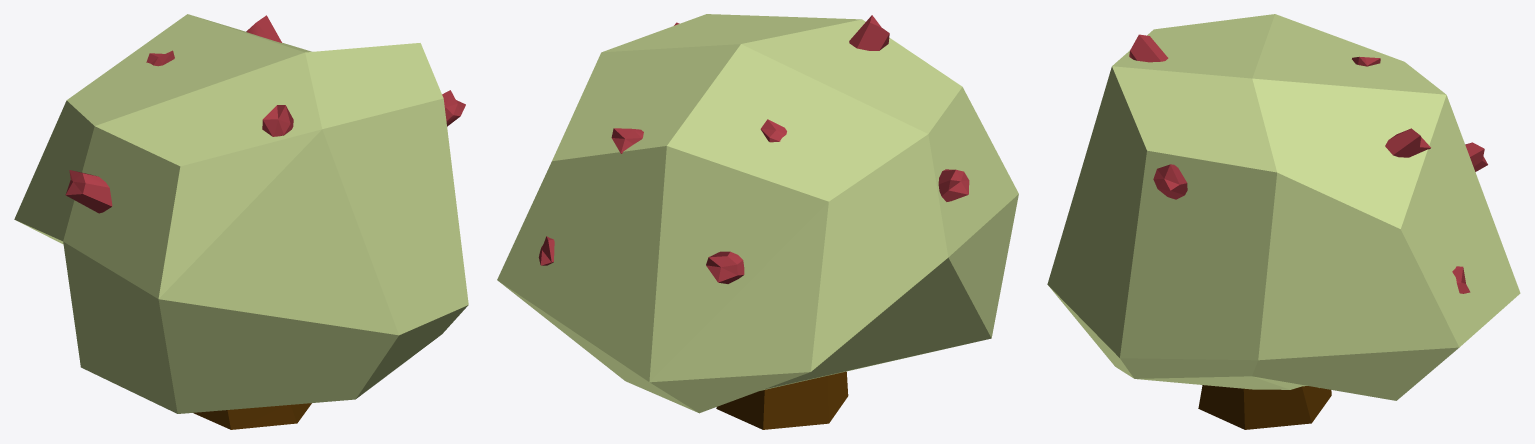
File: shrubtree2.fbx
The picture shows the model from 3 angles, left to right: view 1: azimuth 30°, elevation 25°; view 2: azimuth 150°, elevation 25°; view 3: azimuth 270°, elevation 25°; orthographic projection.
Visible parts, largest first — view 1: polySurface215; view 2: polySurface215; view 3: polySurface215.
Boxes of the visible parts, x1=… form: polySurface215: x1=14, y1=14, x2=468, y2=429; polySurface215: x1=497, y1=14, x2=1018, y2=429; polySurface215: x1=1047, y1=14, x2=1520, y2=429.
Bounding box in the file's own units: 0.6503 × 0.5652 × 0.6846.
